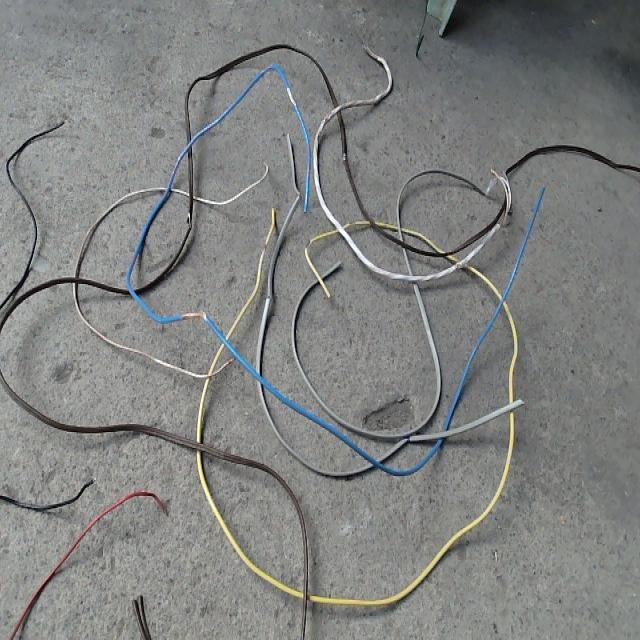-: (180, 309, 206, 320), (304, 239, 311, 248), (263, 241, 266, 248)
